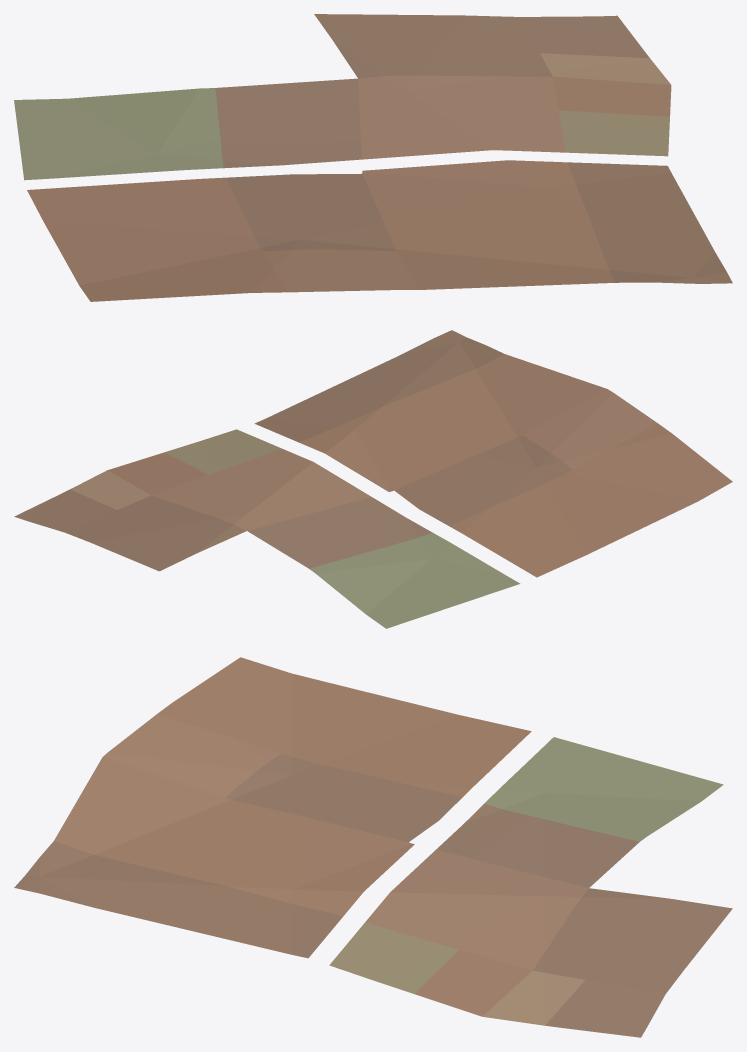
The model's file is farm_-32_-30_soil.glb.
3 renders of one model, top to bottom at view 1: azimuth 30°, elevation 25°; view 2: azimuth 150°, elevation 25°; view 3: azimuth 270°, elevation 25°, orthographic. The views are drawn at different scales.
Visible parts, largest first — view 1: geometry_0; view 2: geometry_0; view 3: geometry_0.
Part boxes in pixels (x1,y1,x2,y2): geometry_0: [14, 14, 732, 301]; geometry_0: [14, 330, 732, 628]; geometry_0: [14, 657, 732, 1037].
Size of the model in its own units: 243 by 22.72 by 228.
